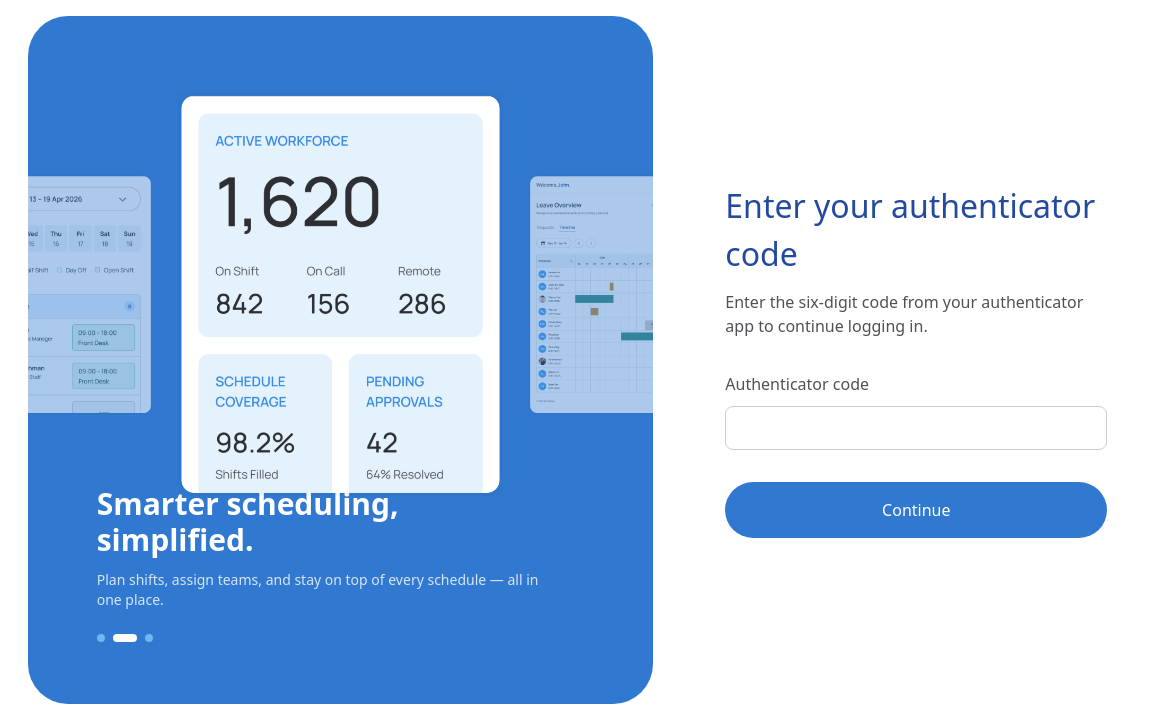
Test: requires six digits before sending
The width and height of the screenshot is (1164, 720).
Expected: the heading "Enter your authenticator code" is shown, [725, 182, 1107, 278]
Click the button "Continue". click: coordinates (916, 510)
box: [725, 482, 1107, 538]
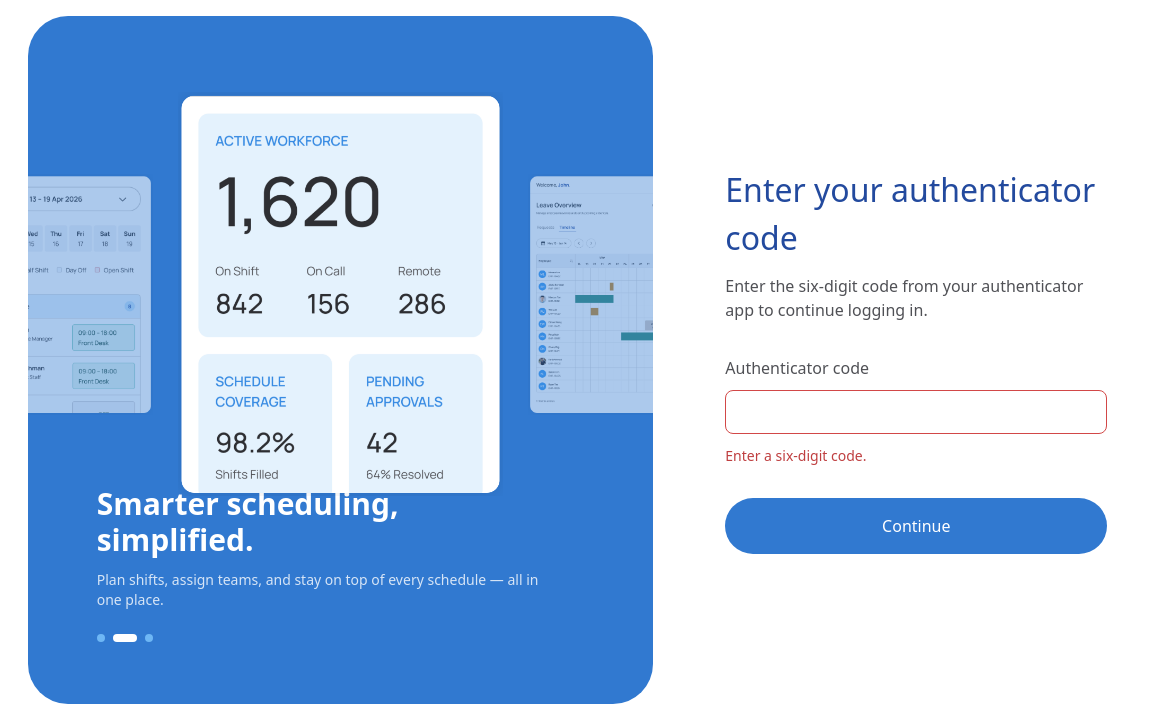
Expected: the message reads "Enter a six-digit code.", [725, 446, 866, 465]
